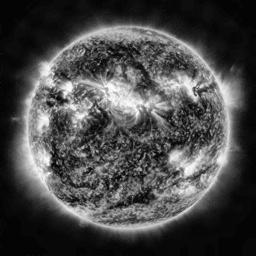solar flares: (125, 95, 154, 123), (96, 81, 121, 106), (69, 109, 91, 131), (155, 77, 179, 97), (181, 78, 201, 99), (36, 114, 55, 133), (170, 148, 185, 171), (36, 149, 53, 166), (186, 158, 198, 182), (183, 184, 200, 200), (60, 82, 75, 98), (44, 76, 55, 88)
sunspots: (120, 192, 155, 206), (49, 148, 67, 172), (90, 59, 111, 79), (167, 57, 189, 76), (88, 113, 111, 131), (109, 44, 134, 60), (133, 65, 151, 84), (181, 100, 202, 116), (169, 132, 187, 147), (194, 129, 212, 143), (110, 174, 126, 189), (163, 110, 177, 125), (153, 153, 170, 163), (59, 64, 72, 77)
